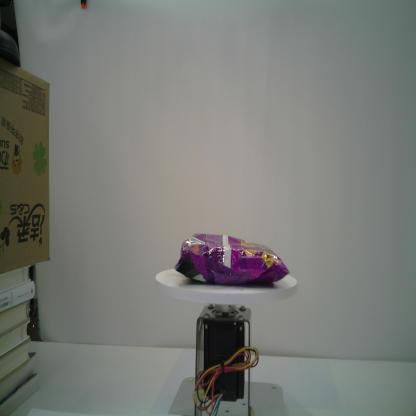Instant Noodles: (173, 232, 291, 286)
